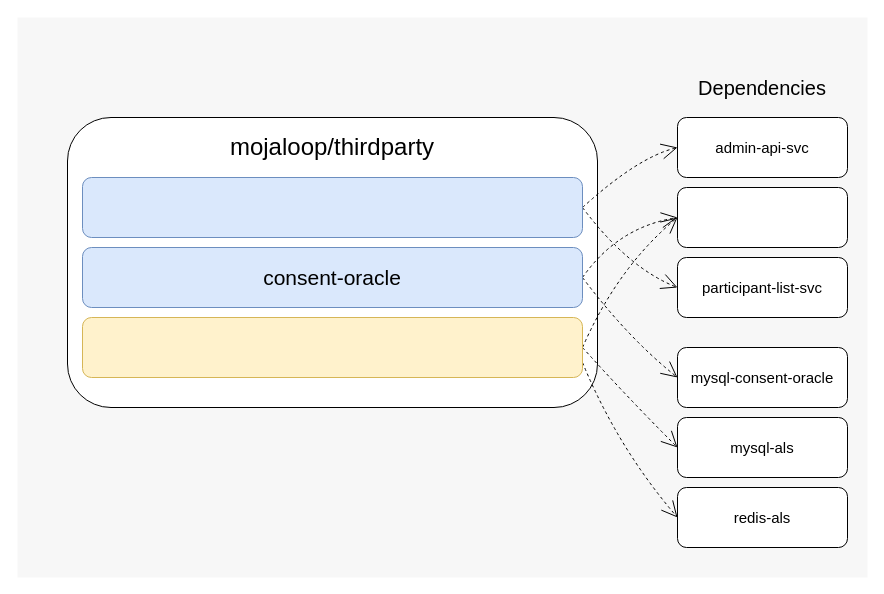
Some shapes in this 884 by 594 pixel diagram are drawn without their labels. Each missing label, with the box of its shape:
account-lookup-svc: (676, 186, 848, 248)
auth-svc (optional - deployed by default): (82, 316, 582, 378)
tp-api-svc: (82, 176, 582, 238)
